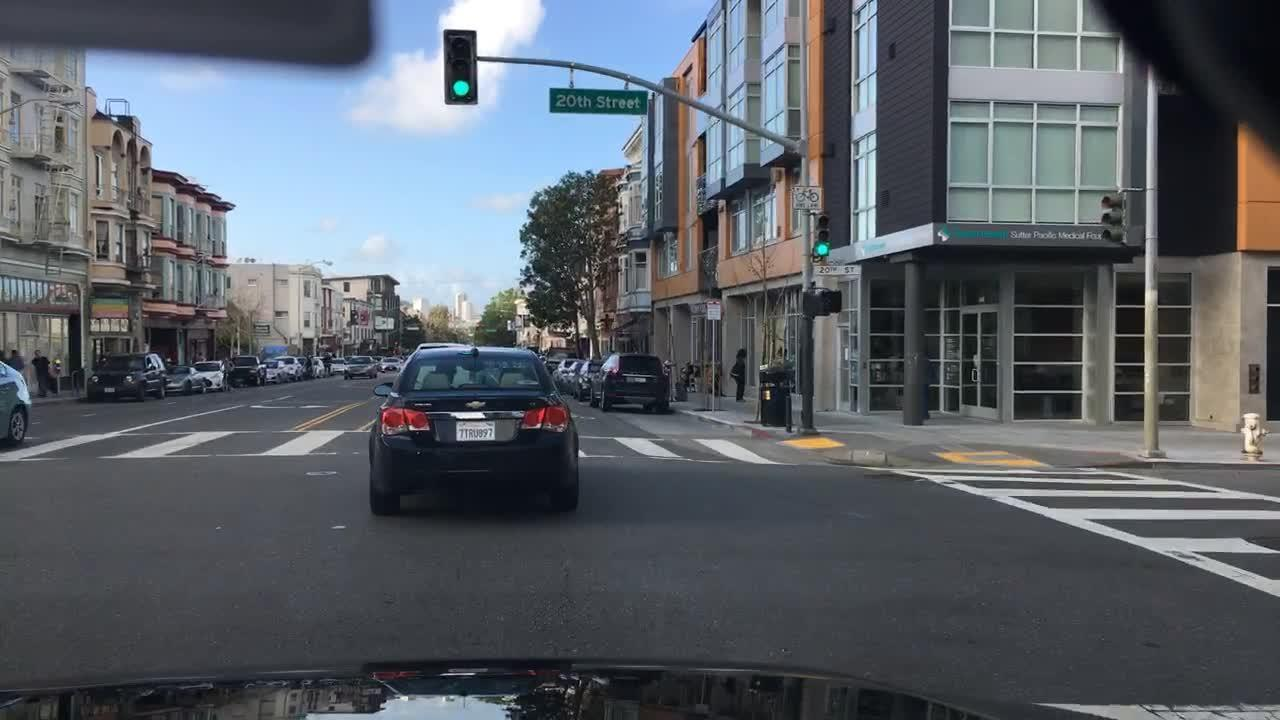chevrolet: (462, 394, 493, 413)
